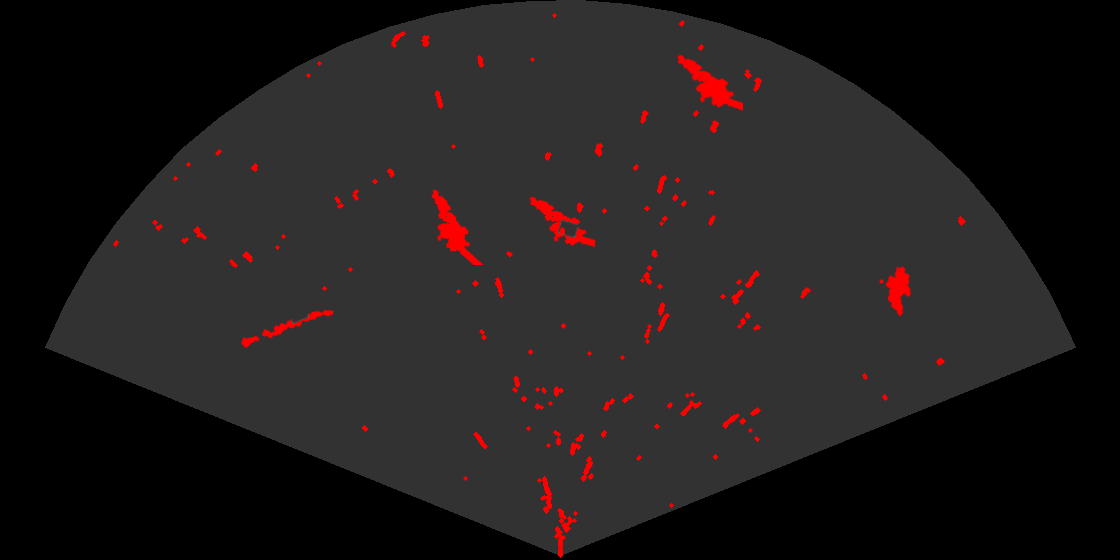AUV: (884, 264, 913, 318)
chain: (239, 308, 335, 349)
frogman: (430, 188, 485, 265), (676, 53, 743, 112), (528, 195, 595, 248)
